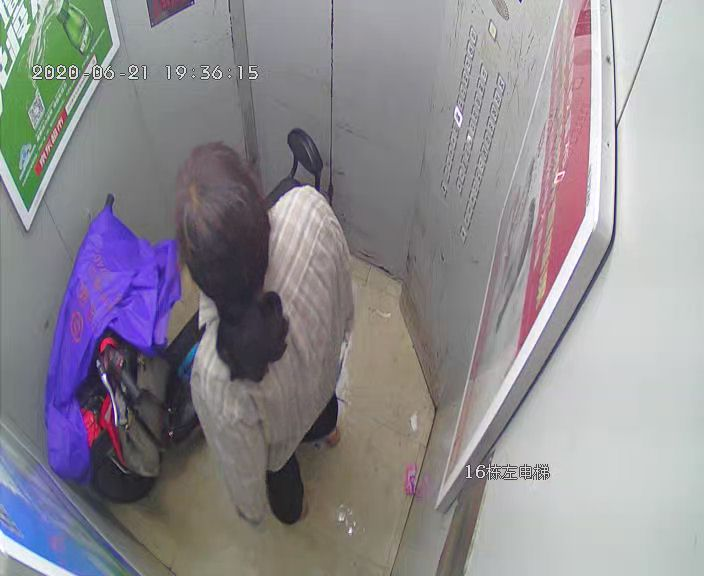Electric-bicycle: (85, 126, 323, 503)
